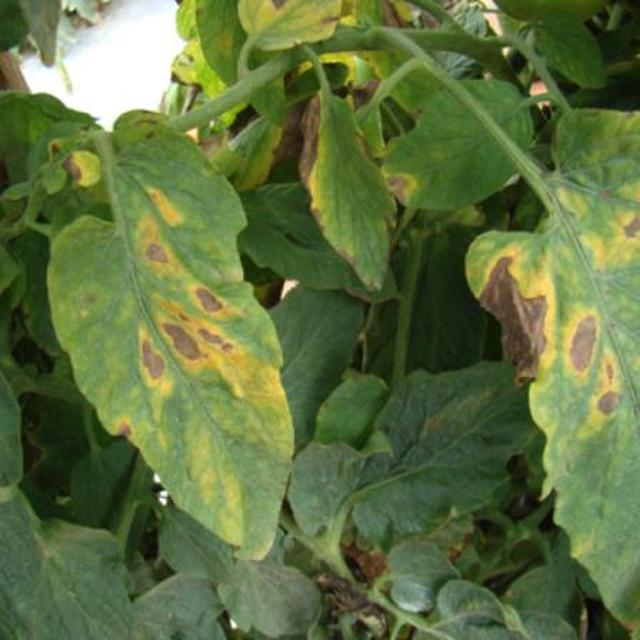Early Blight Leaf: (149, 274, 640, 640)
